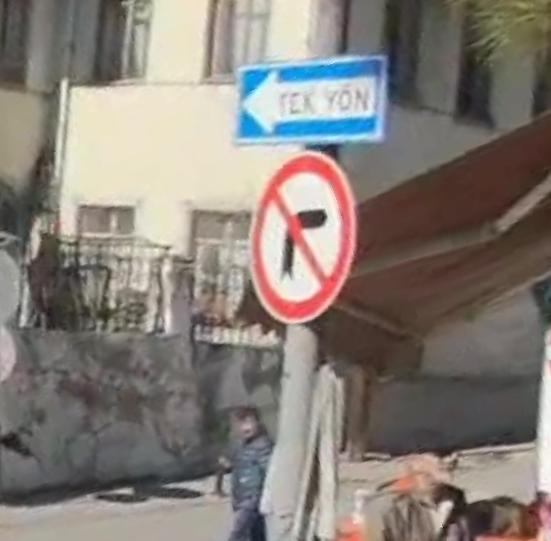rightturnsareforbidden: (249, 150, 359, 324)
